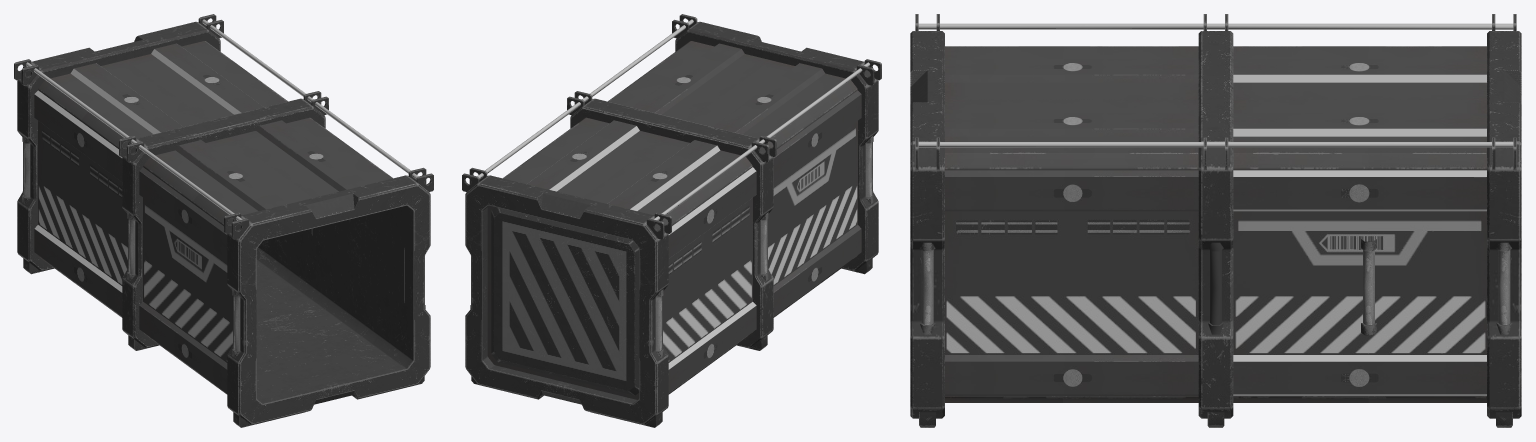
Rendered from Container.gltf.
The picture shows the model from 3 angles, left to right: view 1: azimuth 30°, elevation 25°; view 2: azimuth 150°, elevation 25°; view 3: azimuth 270°, elevation 25°; orthographic projection. The views are drawn at different scales.
Visible parts, largest first — view 1: Cube.005; view 2: Cube.005; view 3: Cube.005.
Part boxes in pixels (box(x1,y1,x2,y2)): Cube.005: box(14, 14, 433, 427); Cube.005: box(462, 14, 881, 427); Cube.005: box(910, 14, 1521, 427).
Bounding box in the file's own units: 3.13 × 3.11 × 6.
Materials: 2 (2 with a texture image).
